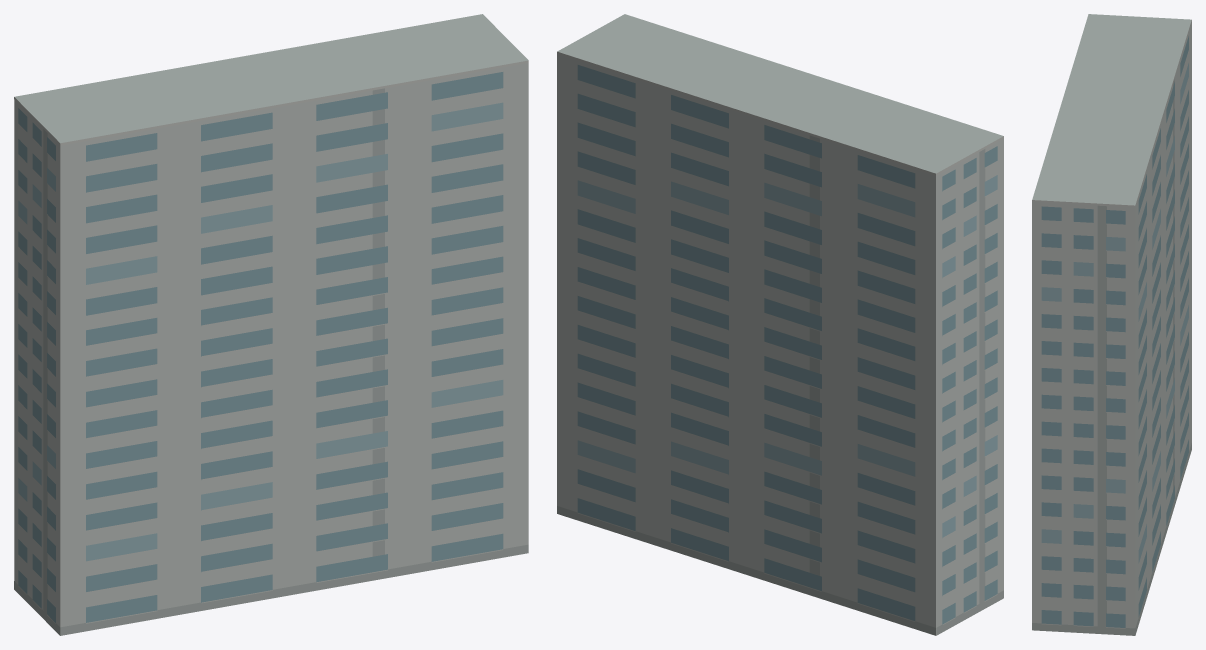
The model's file is residential-cf49fc13-8700-46c0-87f4-27d8748daaee.glb.
3 views of the same model, side by side, from view 1: azimuth 30°, elevation 25°; view 2: azimuth 150°, elevation 25°; view 3: azimuth 270°, elevation 25° (orthographic). The views are drawn at different scales.
Visible parts, largest first — view 1: residential-cf49fc13-8700-46c0-87f4-27d8748daaee.tmp; view 2: residential-cf49fc13-8700-46c0-87f4-27d8748daaee.tmp; view 3: residential-cf49fc13-8700-46c0-87f4-27d8748daaee.tmp.
Part boxes in pixels (left/top/right/bottom): residential-cf49fc13-8700-46c0-87f4-27d8748daaee.tmp: left=14, top=14, right=528, bottom=635; residential-cf49fc13-8700-46c0-87f4-27d8748daaee.tmp: left=557, top=14, right=1003, bottom=635; residential-cf49fc13-8700-46c0-87f4-27d8748daaee.tmp: left=1032, top=14, right=1191, bottom=635.
Bounding box in the file's own units: 45.83 × 48 × 16.15.
